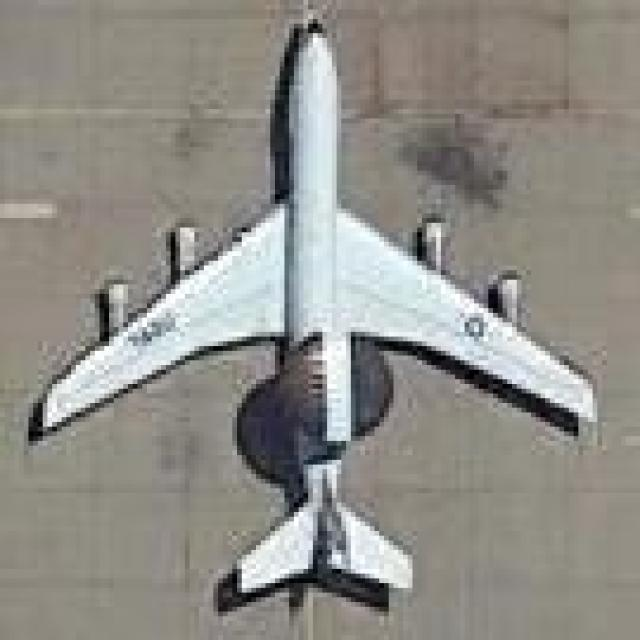E-3_TopDown: (24, 9, 597, 616)
